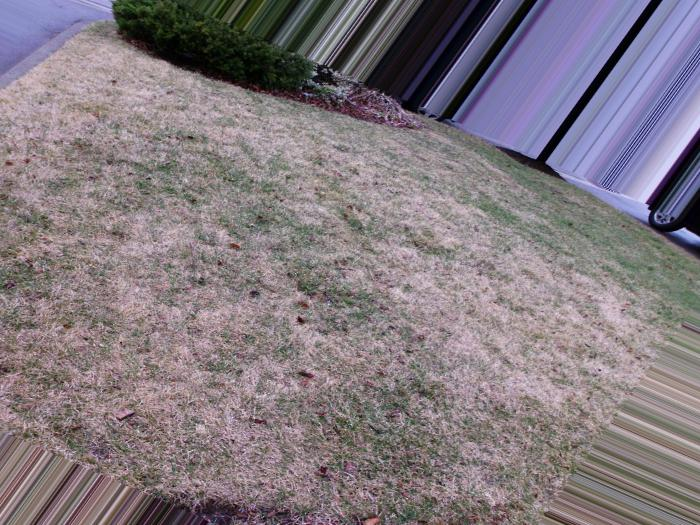patch: (213, 143, 487, 374), (78, 90, 187, 433), (208, 396, 533, 489), (497, 217, 599, 391)
